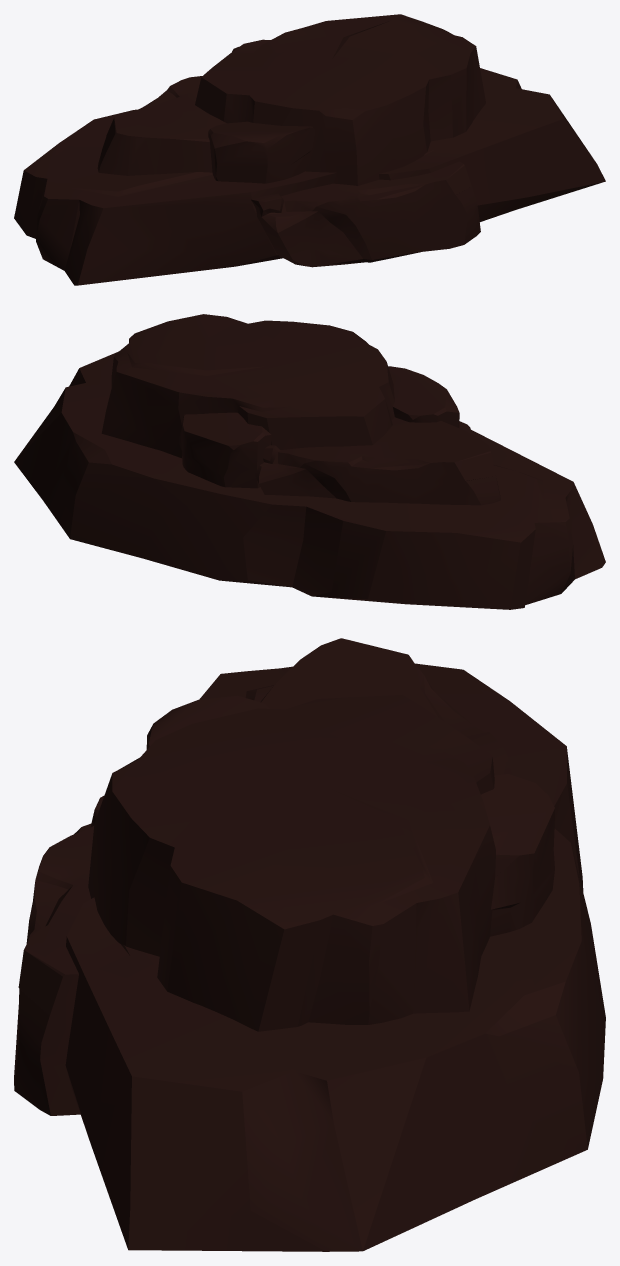
File: SM_Rock_Collection_02.fbx
3 views of the same model, one above another, from view 1: azimuth 30°, elevation 25°; view 2: azimuth 150°, elevation 25°; view 3: azimuth 270°, elevation 25° (orthographic). The views are drawn at different scales.
Visible parts, largest first — view 1: Group65241; view 2: Group65241; view 3: Group65241.
Boxes of the visible parts, x1,y1,x2,y2 form: Group65241: (14,14,605,285); Group65241: (14,314,605,609); Group65241: (14,638,605,1251).
Bounding box in the file's own units: 603 × 155 × 319.
